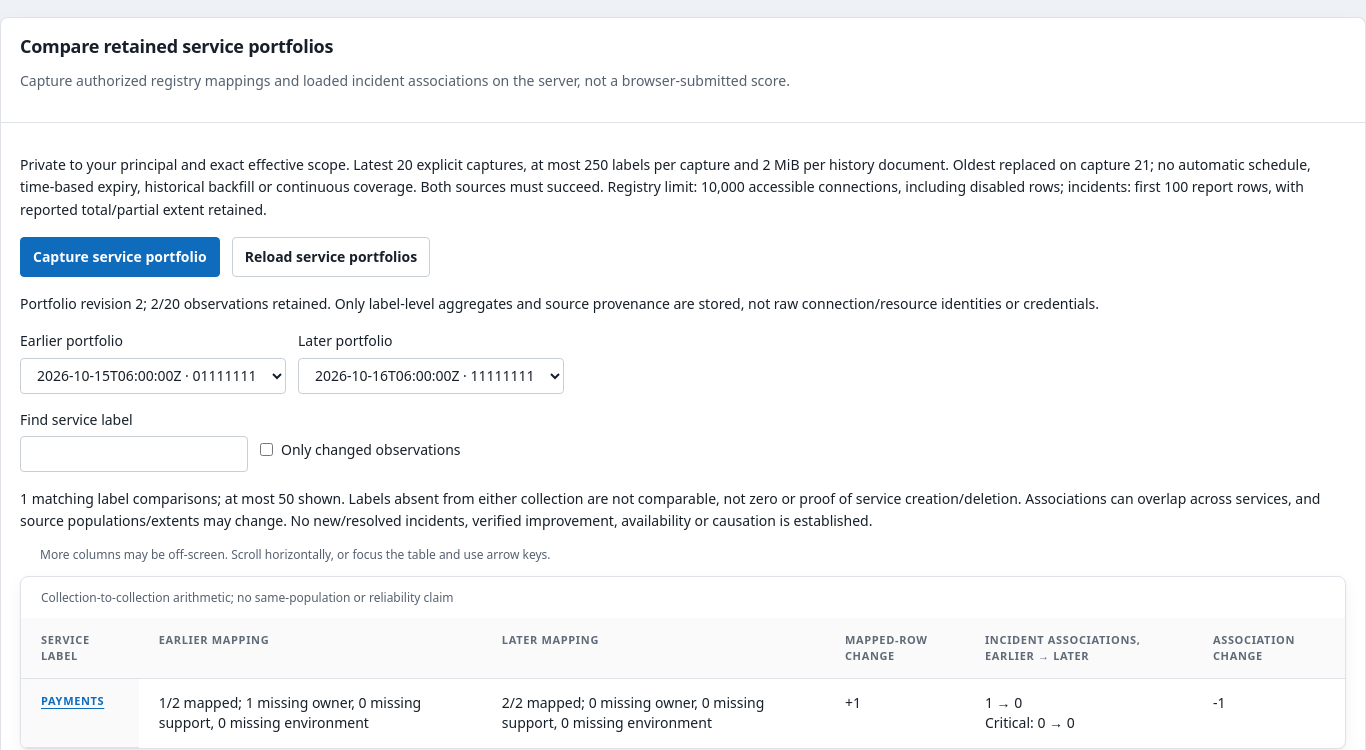
Retained service portfolio › preserves the reviewed observation on capture conflict and never claims success
Expected: the text "Portfolio revision 2" is shown, [20,294,1099,313]
Step 1. Click the button "Capture service portfolio" → (120, 257), box [20,237,220,277]
(page scrolled)
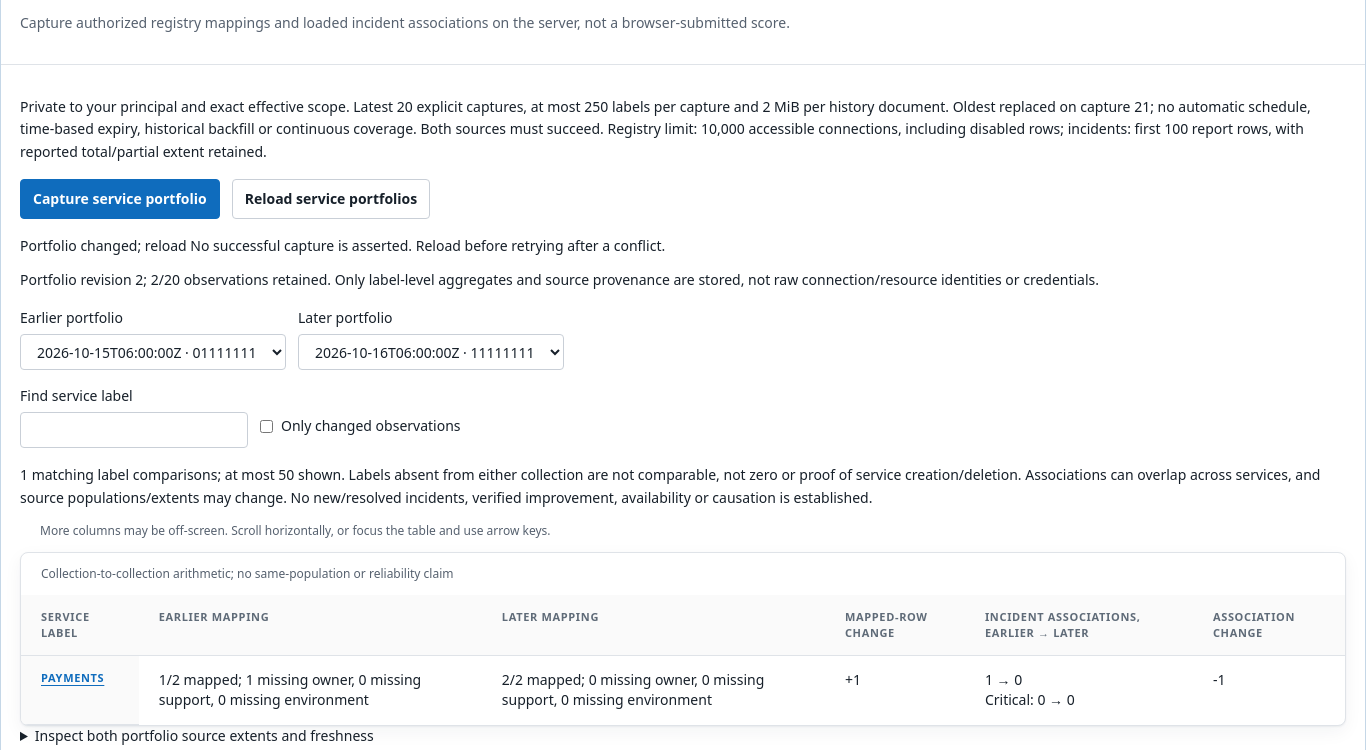
Expected: the text "Portfolio revision 2" is shown, [20,270,1099,289]
Expected: the message is shown, [20,236,665,255]
